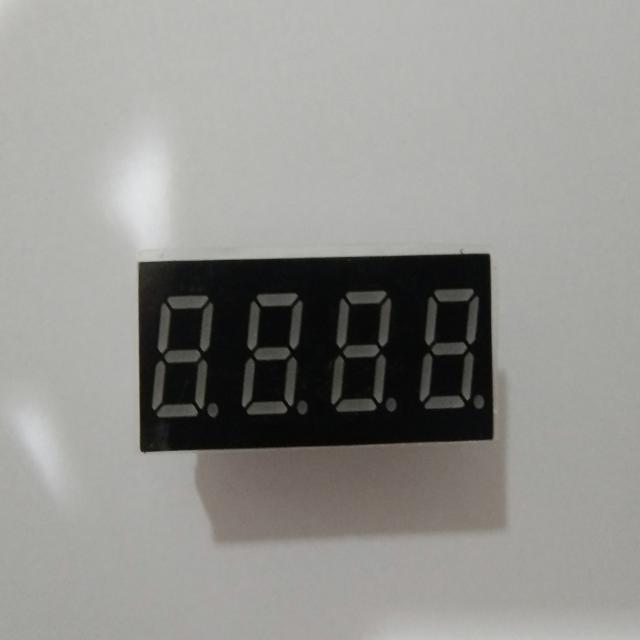7_segments_4_digits: (128, 248, 503, 448)
